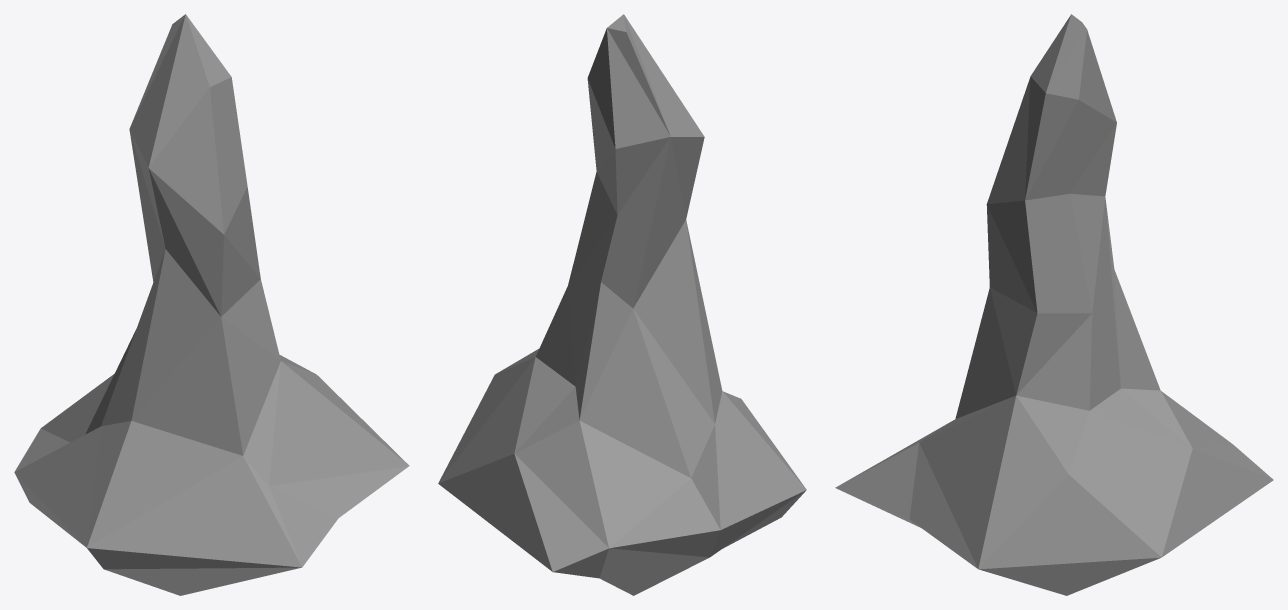
The model's file is Spike_1.glb.
3 renders of one model, left to right at view 1: azimuth 30°, elevation 25°; view 2: azimuth 150°, elevation 25°; view 3: azimuth 270°, elevation 25°, orthographic.
Parts seen in each view (by area): view 1: Spike_1; view 2: Spike_1; view 3: Spike_1.
Boxes of the visible parts, box(x1,y1,x2,y2) form: Spike_1: box(14, 14, 409, 595); Spike_1: box(438, 14, 806, 595); Spike_1: box(835, 14, 1273, 595).
Size of the model in its own units: 19.92 by 34.59 by 23.5.
1 material, 1 textured.
